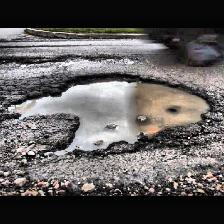pothole: (4, 70, 214, 158)
